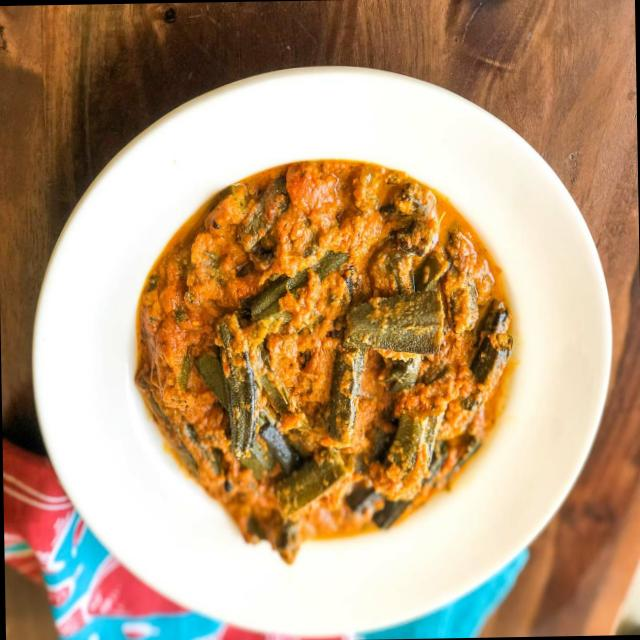BhindiMasala: (130, 156, 521, 567)
